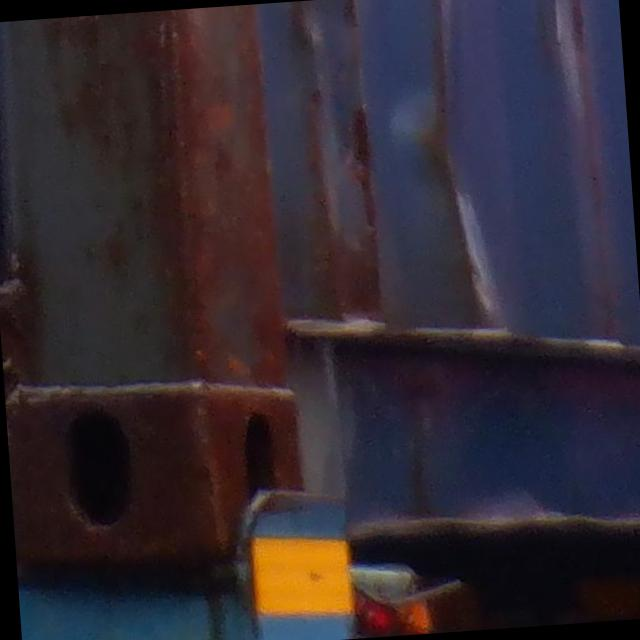Rust: (263, 0, 562, 342)
